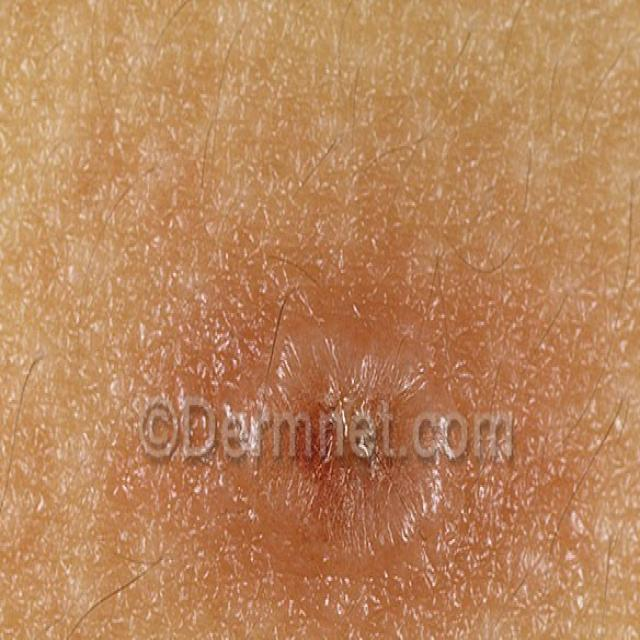Viral Infections: (237, 233, 485, 615)
